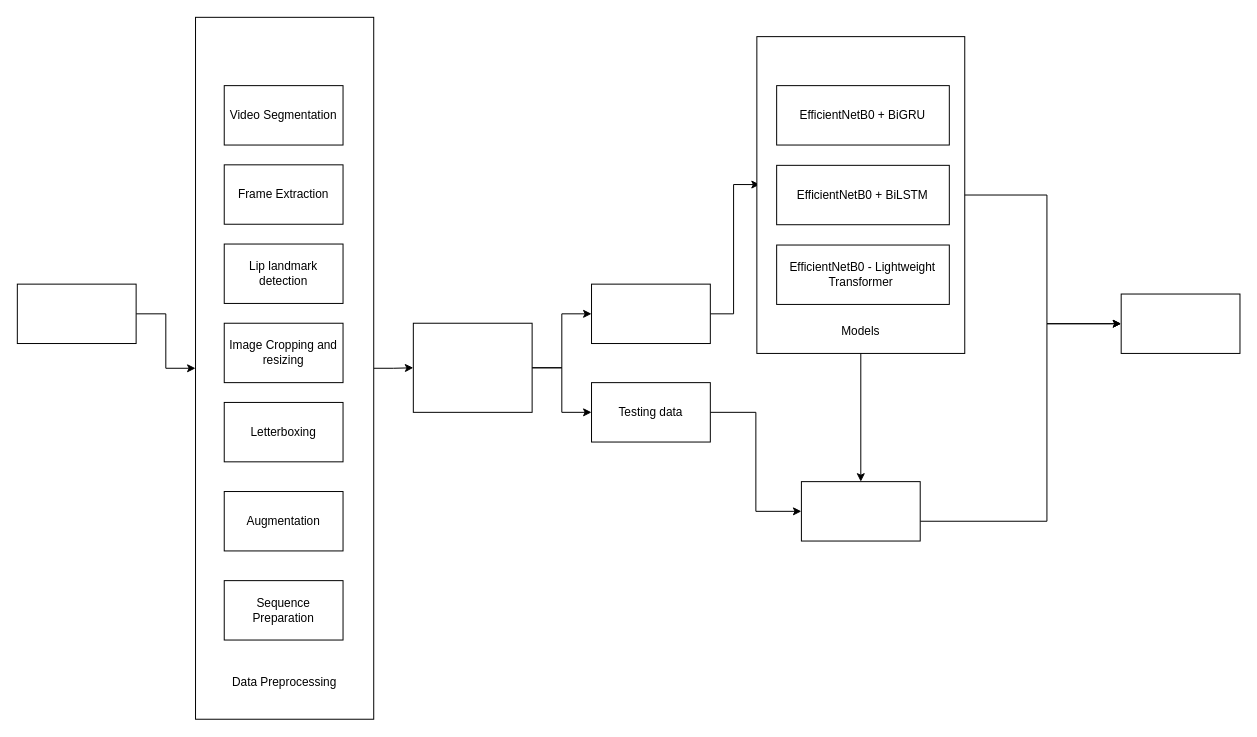
The diagram is 1257 pixels wide and 737 high, and some of its shapes have lost their labels. Here are the shapes that lost their labels. From the top down, the box of each, then its label:
(16, 283, 136, 344): Dataset collection
(591, 283, 710, 344): Training data
(1120, 293, 1240, 353): Best Accuracy model
(412, 322, 532, 412): Split dataset
(800, 481, 920, 541): Evaluation
